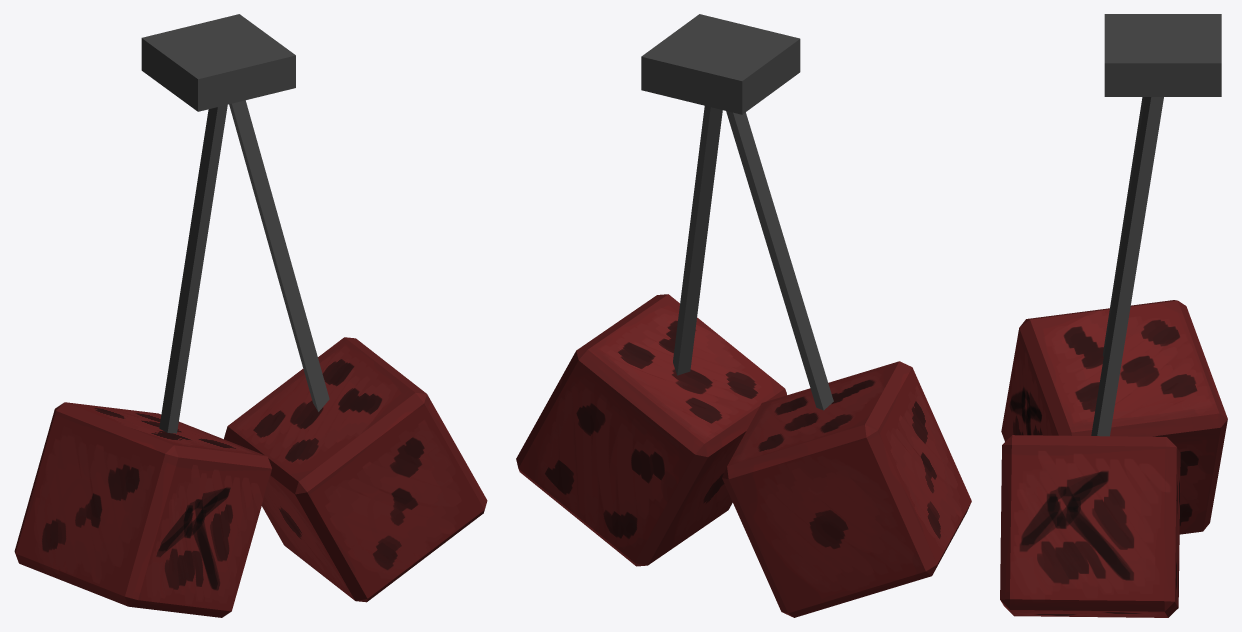
The model's file is dices_on_top.fbx.
3 views of the same model, side by side, from view 1: azimuth 30°, elevation 25°; view 2: azimuth 150°, elevation 25°; view 3: azimuth 270°, elevation 25° (orthographic). The views are drawn at different scales.
Visible parts, largest first — view 1: Cube.001, Cube, Cube.002, Cylinder, Cylinder.001; view 2: Cube.001, Cube, Cube.002, Cylinder, Cylinder.001; view 3: Cube, Cube.001, Cube.002, Cylinder.001, Cylinder.
Boxes of the visible parts, <box> form: Cube.001: <box>14,402,271,617</box>; Cube: <box>224,337,487,602</box>; Cube.002: <box>141,14,295,111</box>; Cylinder: <box>159,104,227,433</box>; Cylinder.001: <box>229,100,329,411</box>; Cube.001: <box>722,361,971,617</box>; Cube: <box>516,294,786,566</box>; Cube.002: <box>641,14,800,114</box>; Cylinder: <box>726,111,833,410</box>; Cylinder.001: <box>673,106,722,375</box>; Cube: <box>1000,435,1180,617</box>; Cube.001: <box>1001,300,1227,534</box>; Cube.002: <box>1104,14,1221,96</box>; Cylinder.001: <box>1091,97,1163,436</box>; Cylinder: <box>1102,97,1145,356</box>.
Bounding box in the file's own units: 553 × 680 × 261.
